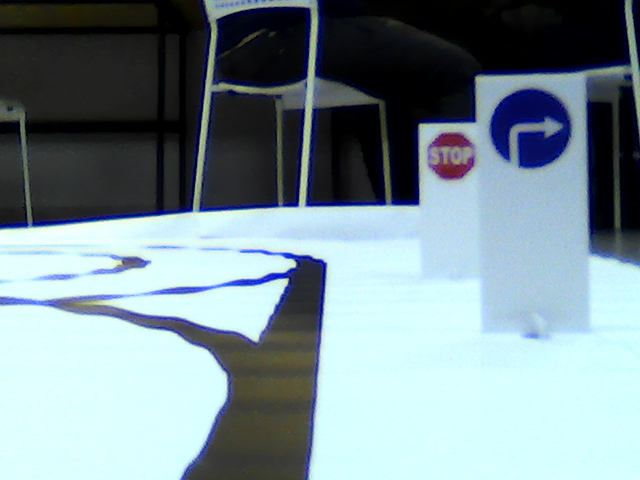Right: (489, 87, 571, 170)
Stop: (427, 130, 476, 178)
